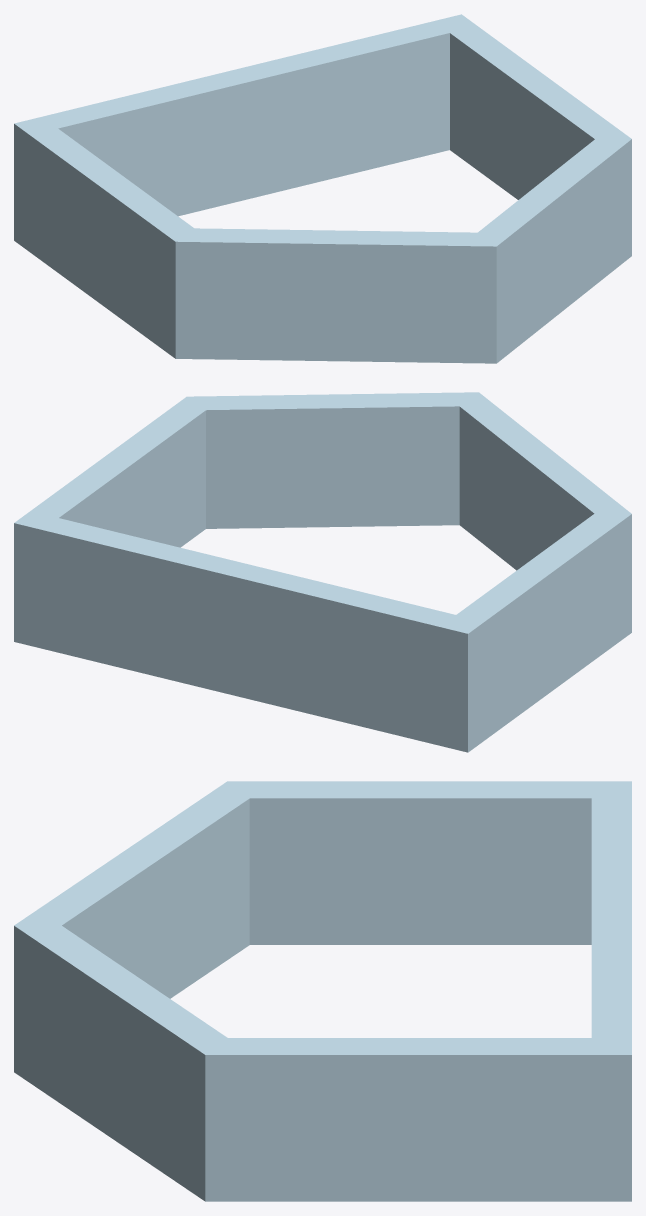
3 renders of one model, top to bottom at view 1: azimuth 30°, elevation 25°; view 2: azimuth 150°, elevation 25°; view 3: azimuth 270°, elevation 25°, orthographic. The views are drawn at different scales.
Visible parts, largest first — view 1: endwall; view 2: endwall; view 3: endwall.
Boxes of the visible parts, box(x1,y1,x2,y2) form: endwall: box(14, 14, 631, 363); endwall: box(14, 392, 631, 752); endwall: box(14, 781, 631, 1201).
Bounding box in the file's own units: 4.8 × 1.2 × 4.58.
